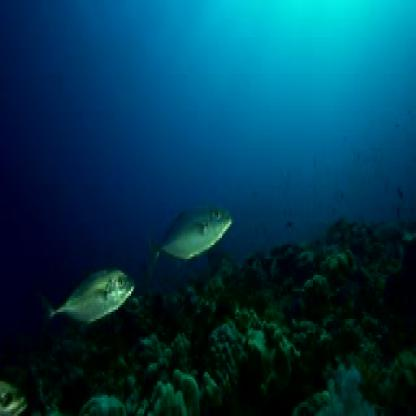jack: (130, 186, 232, 278), (35, 257, 139, 334)
